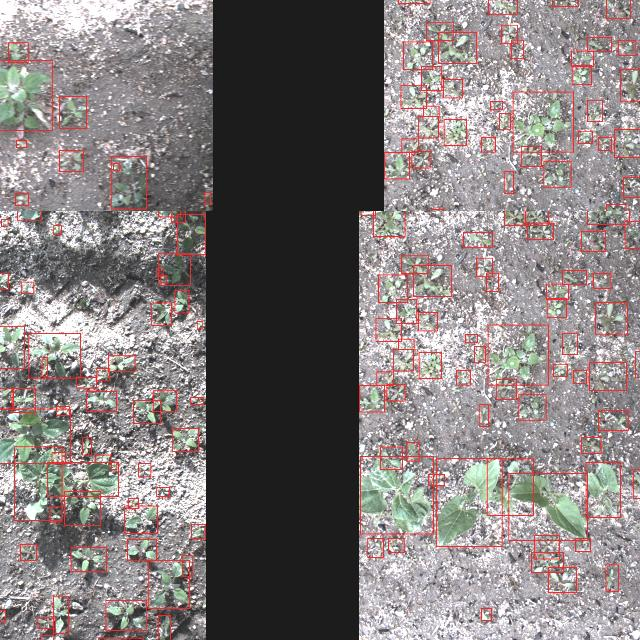crop: (436, 458, 502, 546), (360, 456, 432, 532), (508, 472, 586, 540), (14, 446, 62, 520), (486, 458, 534, 514), (46, 462, 118, 496), (586, 462, 620, 516), (17, 211, 41, 219), (158, 211, 180, 216)
weed: (0, 408, 70, 463), (0, 59, 51, 130), (512, 91, 572, 151), (487, 324, 547, 384), (28, 332, 80, 378), (147, 560, 189, 608), (110, 156, 146, 208), (64, 490, 100, 526), (413, 264, 451, 296), (106, 600, 146, 630), (177, 213, 205, 254), (438, 32, 476, 62), (588, 361, 626, 389), (595, 301, 627, 333), (158, 253, 190, 284), (0, 325, 23, 368), (124, 506, 158, 532), (59, 96, 86, 128), (70, 547, 106, 571), (402, 41, 432, 69), (378, 274, 407, 302), (372, 211, 403, 236), (613, 128, 640, 156), (518, 393, 546, 419), (548, 566, 576, 592), (544, 160, 570, 186), (358, 385, 384, 411), (620, 68, 640, 100), (531, 552, 563, 572), (442, 119, 466, 145), (384, 152, 408, 178), (400, 84, 426, 108), (134, 399, 160, 423), (128, 538, 156, 560), (52, 595, 68, 633), (86, 390, 116, 410), (598, 410, 628, 430), (376, 317, 400, 341), (534, 534, 558, 558), (172, 428, 198, 450), (418, 352, 440, 378), (586, 211, 629, 224), (12, 388, 34, 412), (152, 391, 176, 412), (400, 255, 428, 273), (379, 446, 401, 468), (59, 150, 83, 170), (421, 66, 441, 90), (396, 299, 416, 323), (581, 231, 605, 251), (426, 22, 452, 40), (417, 115, 438, 137), (151, 302, 171, 324), (392, 348, 412, 370), (606, 0, 630, 18), (624, 220, 640, 247), (462, 232, 492, 246), (108, 355, 134, 371), (527, 222, 553, 238), (7, 42, 27, 62), (520, 146, 540, 166), (572, 64, 592, 84), (442, 78, 462, 98), (495, 379, 515, 399), (487, 0, 517, 13), (586, 37, 612, 51), (418, 312, 437, 331), (586, 99, 602, 121), (571, 50, 593, 66), (546, 283, 568, 299), (623, 177, 640, 197), (157, 614, 170, 640), (562, 270, 586, 284), (411, 150, 429, 168), (548, 298, 566, 316), (524, 211, 547, 225), (501, 24, 517, 44), (367, 537, 383, 557), (581, 437, 601, 453), (606, 564, 618, 590), (175, 290, 189, 312), (562, 332, 576, 354), (386, 384, 404, 401), (503, 211, 524, 225), (476, 258, 492, 276), (593, 272, 611, 288), (0, 387, 13, 408), (19, 544, 36, 560), (618, 40, 636, 54), (511, 38, 523, 58), (406, 442, 418, 461), (481, 136, 495, 152), (401, 138, 417, 152), (376, 371, 392, 385), (182, 554, 192, 576), (478, 404, 488, 426), (486, 272, 498, 290), (37, 616, 54, 628), (633, 468, 640, 497), (76, 377, 96, 387), (503, 171, 512, 193), (597, 136, 611, 150), (191, 524, 205, 538), (456, 370, 470, 384), (388, 538, 402, 552), (49, 506, 61, 522), (498, 113, 509, 129), (578, 130, 592, 142), (553, 363, 567, 375), (572, 370, 586, 382), (576, 538, 590, 550), (422, 105, 438, 115), (428, 474, 444, 484), (474, 346, 484, 362), (15, 193, 28, 205), (21, 281, 34, 293), (96, 368, 108, 380), (138, 464, 150, 476), (606, 204, 626, 211), (171, 211, 185, 221), (156, 486, 170, 496), (51, 452, 65, 462), (398, 338, 412, 348), (552, 0, 578, 5), (635, 351, 640, 377), (82, 438, 90, 454), (490, 100, 502, 110), (41, 356, 47, 376), (481, 608, 491, 620), (96, 454, 110, 462), (0, 273, 7, 289), (465, 333, 477, 342), (190, 396, 203, 404), (128, 498, 138, 508), (56, 406, 68, 414), (16, 139, 27, 147), (204, 192, 210, 204), (53, 224, 61, 233), (40, 635, 53, 640), (359, 211, 374, 215), (1, 218, 8, 226), (113, 162, 119, 170), (0, 609, 4, 621), (196, 320, 202, 328), (157, 267, 163, 275), (160, 274, 166, 282), (112, 462, 116, 468)
